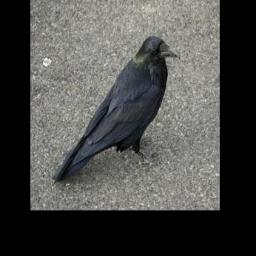Crow: (51, 35, 180, 185)
